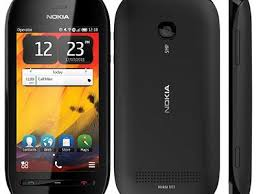nokia: (1, 1, 112, 191), (115, 1, 222, 194)
